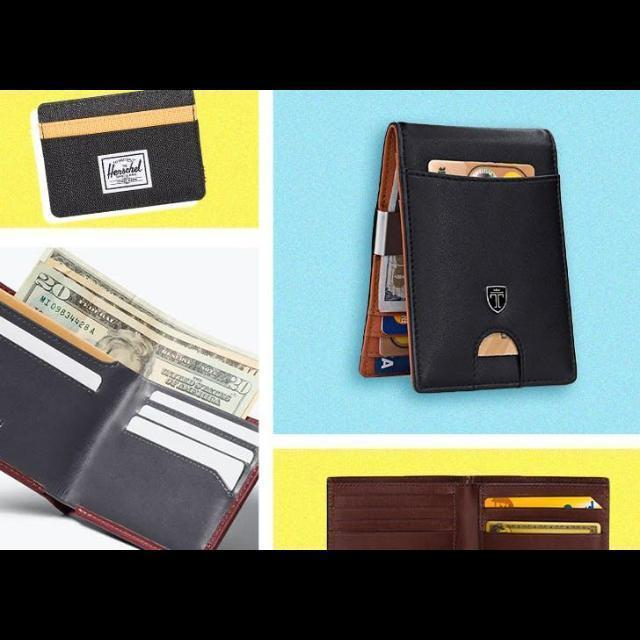wallet: (0, 267, 258, 548), (356, 119, 584, 398), (319, 468, 611, 548), (32, 90, 205, 222)
